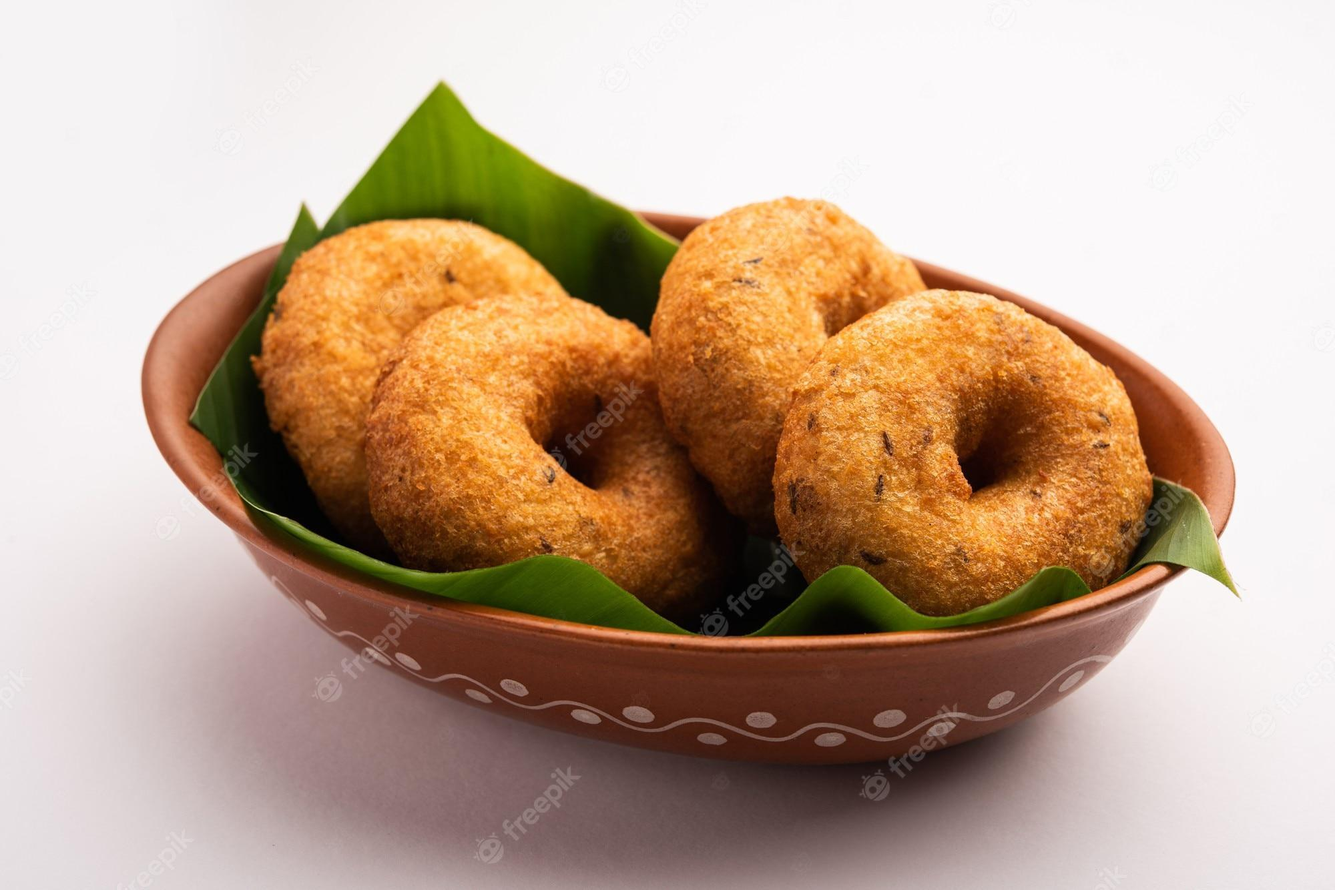mvada: (322, 251, 975, 525)
